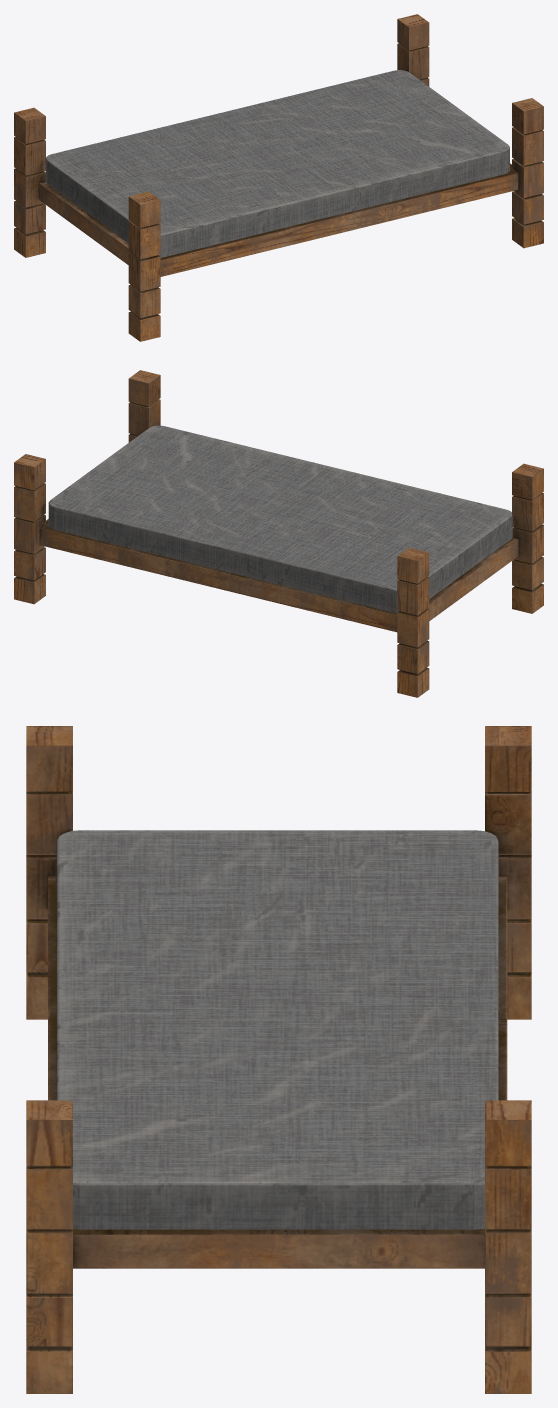
Rendered from SingleBed.fbx.
3 renders of one model, top to bottom at view 1: azimuth 30°, elevation 25°; view 2: azimuth 150°, elevation 25°; view 3: azimuth 270°, elevation 25°, orthographic. The views are drawn at different scales.
Parts seen in each view (by area): view 1: BunkBed.002; view 2: BunkBed.002; view 3: BunkBed.002.
Boxes of the visible parts, x1,y1,x2,y2 form: BunkBed.002: (14,14,543,341); BunkBed.002: (14,370,543,697); BunkBed.002: (26,726,531,1393).
Bounding box in the file's own units: 314 × 102 × 170.
